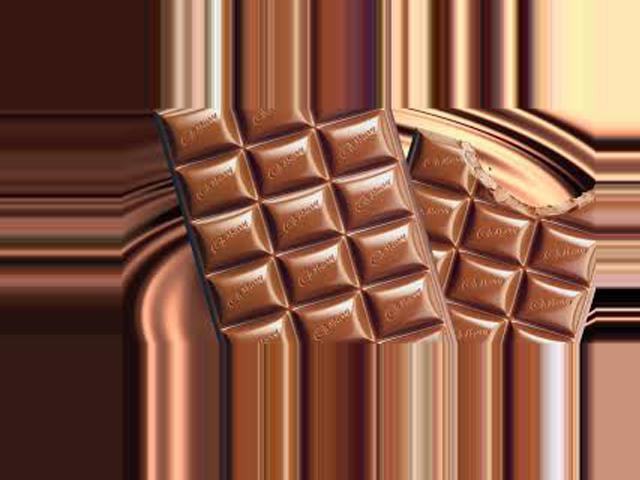chocolate: (148, 110, 458, 345)
